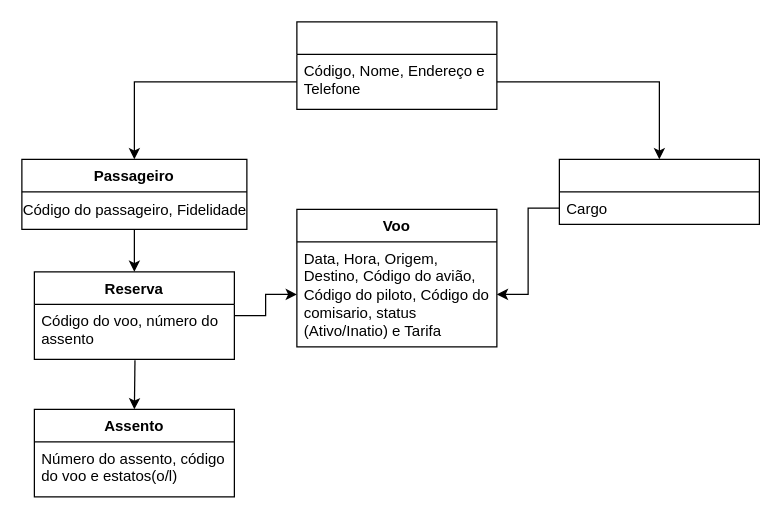
This 781x523 diagram has some shape labels left out. Each missing label, with the box of its shape:
Pessoa: (296, 21, 497, 109)
Tripulação: (558, 158, 759, 224)
